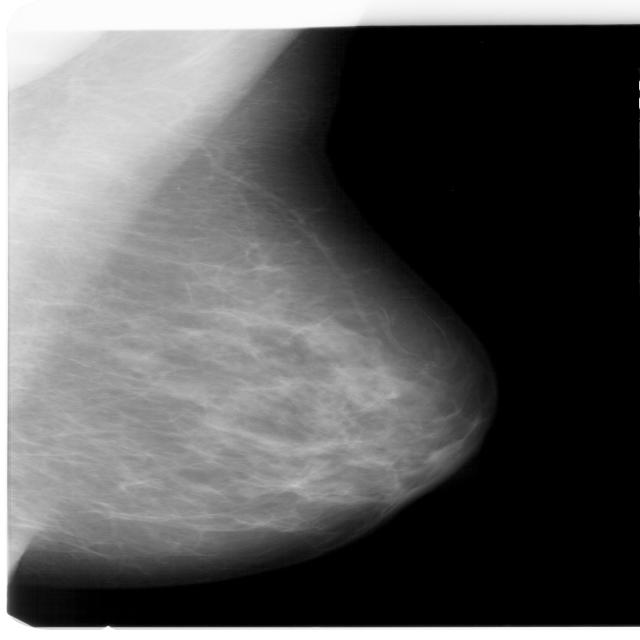normal: (0, 172, 547, 585)
